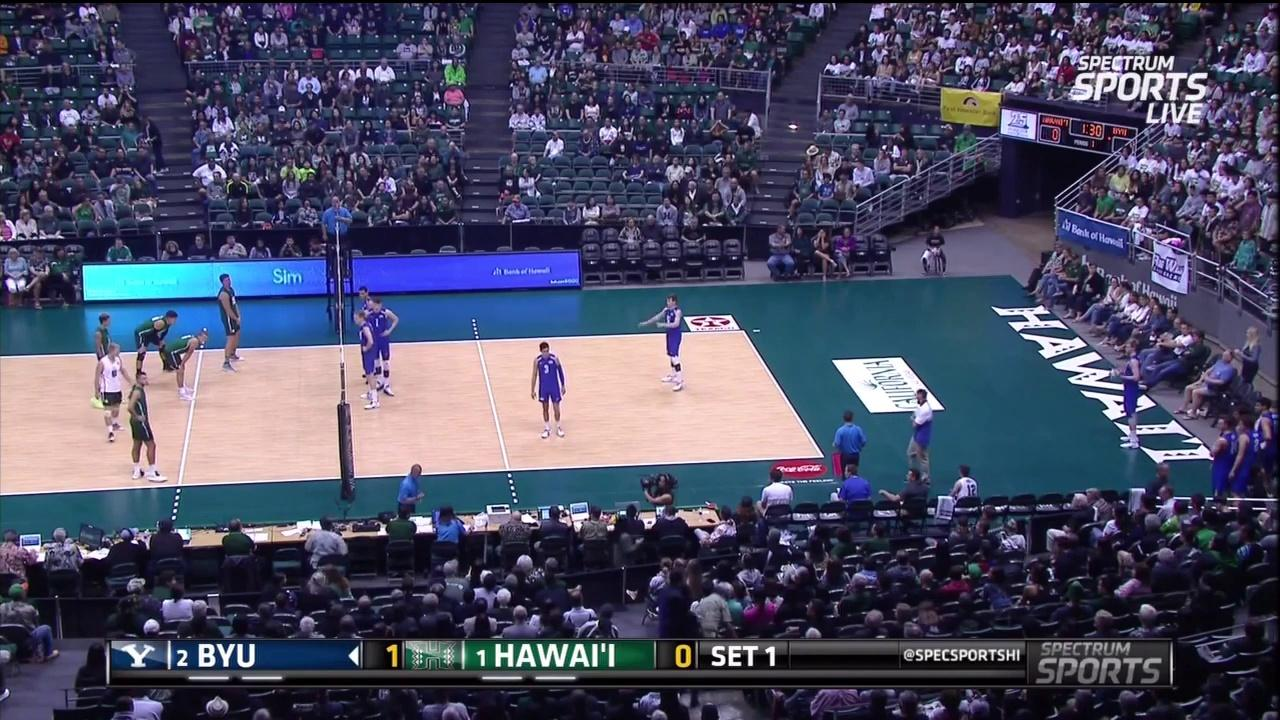player: (125, 371, 170, 481), (638, 296, 690, 390), (1111, 339, 1147, 452), (364, 301, 400, 401), (132, 304, 182, 376), (531, 341, 566, 439), (351, 311, 384, 411), (94, 341, 126, 443), (166, 327, 207, 402), (217, 271, 241, 370), (91, 311, 116, 405), (358, 286, 379, 381)
refree: (318, 195, 354, 275), (390, 457, 426, 521), (833, 411, 865, 481)
